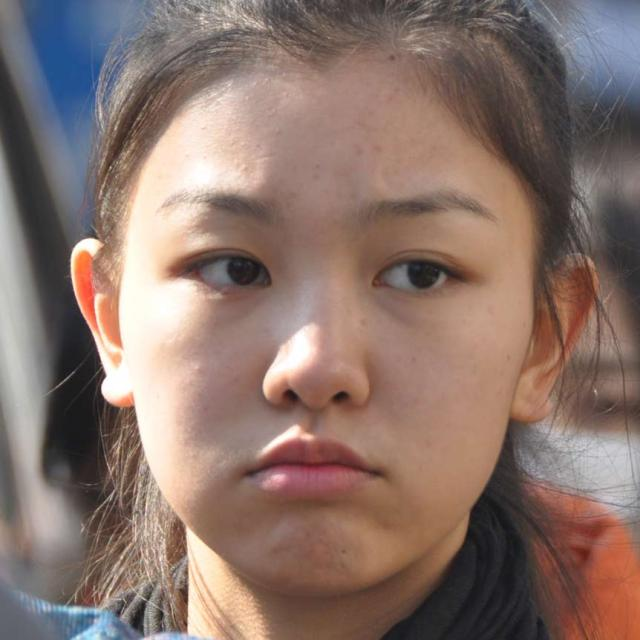Depress: (120, 59, 536, 595)
